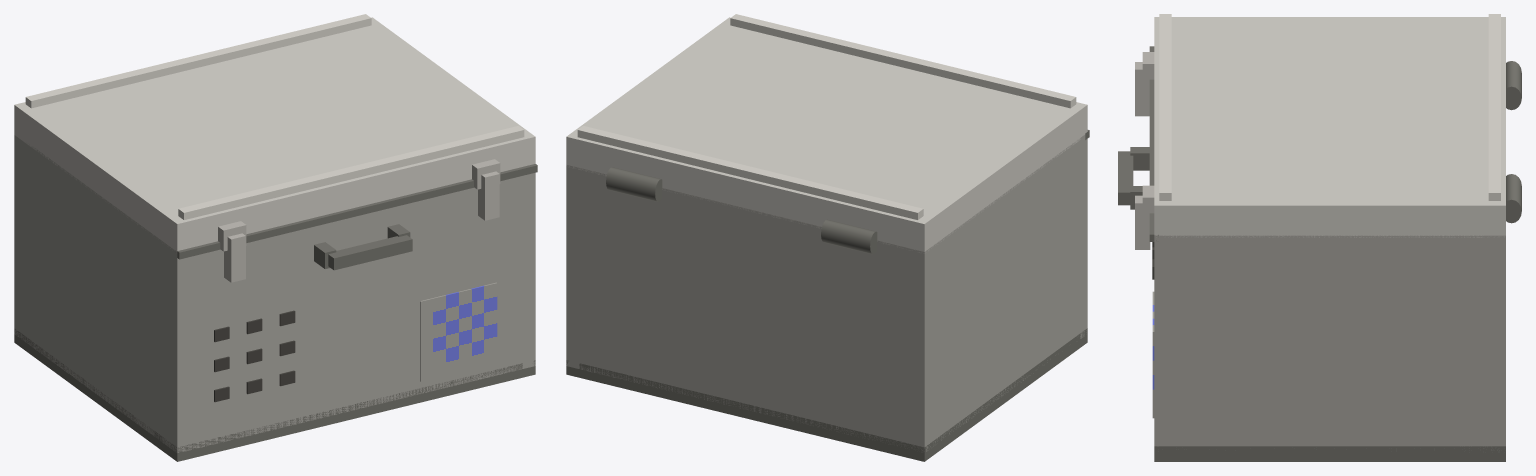
Rendered from CMU3DInheritedCratesFreezerCloud.glb.
The picture shows the model from 3 angles, left to right: view 1: azimuth 30°, elevation 25°; view 2: azimuth 150°, elevation 25°; view 3: azimuth 270°, elevation 25°; orthographic projection. The views are drawn at different scales.
Visible parts, largest first — view 1: separate solid closed lid, front structural wall, side structural wall -1, bottom structural pan, original blue snowflake insignia, pale lid raised rim 1, pale lid raised rim -1, front lid gasket, side structural wall 1, open front carry grip crossbar, rear structural wall, latch tongue 0.31 (+1 smaller); view 2: rear structural wall, separate solid closed lid, side structural wall -1, bottom structural pan, pale lid raised rim 1, pale lid raised rim -1, side structural wall 1, front structural wall, rear lid hinge -0.2625, rear lid hinge 0.2625; view 3: separate solid closed lid, side structural wall 1, bottom structural pan, front structural wall, rear structural wall, pale lid raised rim -1, pale lid raised rim 1, front lid gasket, open front carry grip crossbar, rear lid hinge 0.2625, rear lid hinge -0.2625, latch tongue 0.31 (+4 smaller).
Boxes of the visible parts, x1,y1,x2,y2 form: separate solid closed lid: (14,17,535,251); front structural wall: (170,172,535,452); side structural wall -1: (14,136,189,451); bottom structural pan: (14,329,535,461); original blue snowflake insignia: (420,282,497,381); pale lid raised rim 1: (25,14,371,108); pale lid raised rim -1: (178,126,524,219); front lid gasket: (177,164,537,259); side structural wall 1: (522,173,535,368); open front carry grip crossbar: (328,235,412,270); rear structural wall: (14,135,21,337); latch tongue 0.31: (478,171,499,220); rear structural wall: (566,165,931,451); separate solid closed lid: (566,17,1087,253); side structural wall -1: (912,139,1087,451); bottom structural pan: (566,328,1087,461); pale lid raised rim 1: (577,126,923,219); pale lid raised rim -1: (730,14,1076,108); side structural wall 1: (566,165,579,368); front structural wall: (1080,134,1087,338); rear lid hinge -0.2625: (821,219,877,254); rear lid hinge 0.2625: (606,167,662,201); separate solid closed lid: (1154,17,1505,237); side structural wall 1: (1154,235,1505,450); bottom structural pan: (1154,446,1505,461); front structural wall: (1154,235,1169,446); rear structural wall: (1490,235,1505,446); pale lid raised rim -1: (1159,14,1171,200); pale lid raised rim 1: (1488,14,1500,200); front lid gasket: (1149,46,1158,241); open front carry grip crossbar: (1118,151,1133,205); rear lid hinge 0.2625: (1506,174,1521,223); rear lid hinge -0.2625: (1506,61,1521,110); latch tongue 0.31: (1135,195,1150,249).
Bounding box in the file's own units: 0.875 × 0.572 × 0.792.
7 materials, 1 textured.
